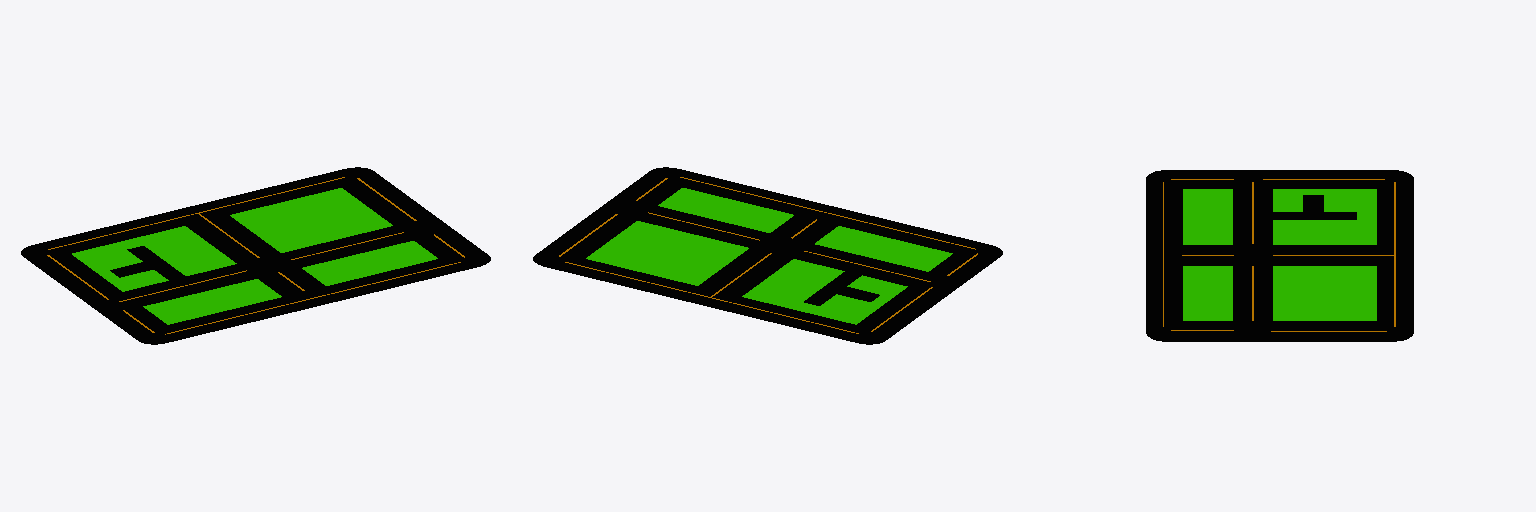
File: road.obj
The picture shows the model from 3 angles: view 1: azimuth 30°, elevation 25°; view 2: azimuth 150°, elevation 25°; view 3: azimuth 270°, elevation 25°; orthographic projection.
Visible parts, largest first — view 1: road.002_Plane.002, Plane.002_Plane.005; view 2: road.002_Plane.002, Plane.002_Plane.005; view 3: road.002_Plane.002, Plane.002_Plane.005.
Part boxes in pixels (x1,y1,x2,y2): road.002_Plane.002: (21, 167, 490, 344); Plane.002_Plane.005: (72, 188, 437, 324); road.002_Plane.002: (533, 167, 1002, 344); Plane.002_Plane.005: (586, 188, 952, 324); road.002_Plane.002: (1146, 170, 1413, 341); Plane.002_Plane.005: (1183, 189, 1376, 320).
Size of the model in its own units: 5.12 by 0.0187 by 3.39.